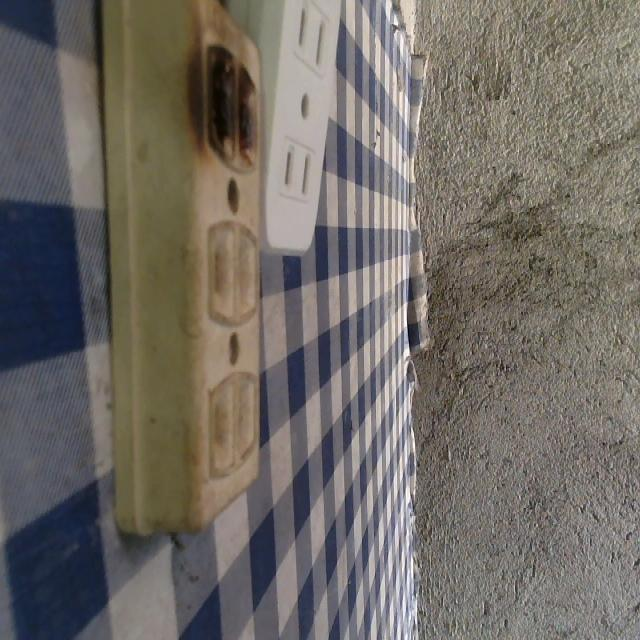-: (193, 42, 270, 174)
